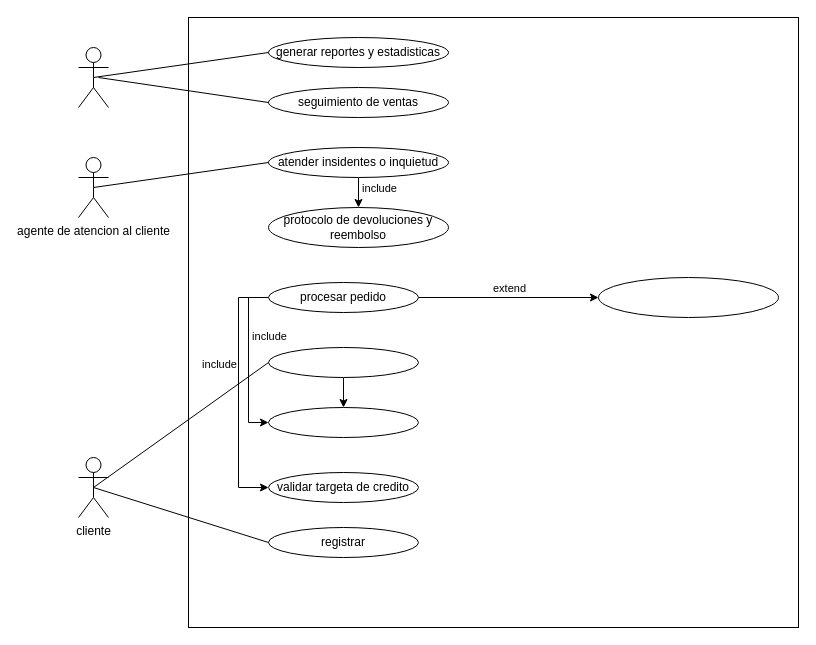
This 816x645 diagram has some shape labels left out. Here are the shapes that lost their labels. From the top down, the centre of each, then its label:
At point (93, 77): "gerente".
At point (688, 297): "rechazar pago por datos invalidos".
At point (343, 362): "verificar inventario".
At point (343, 422): "confirmar pedido".
